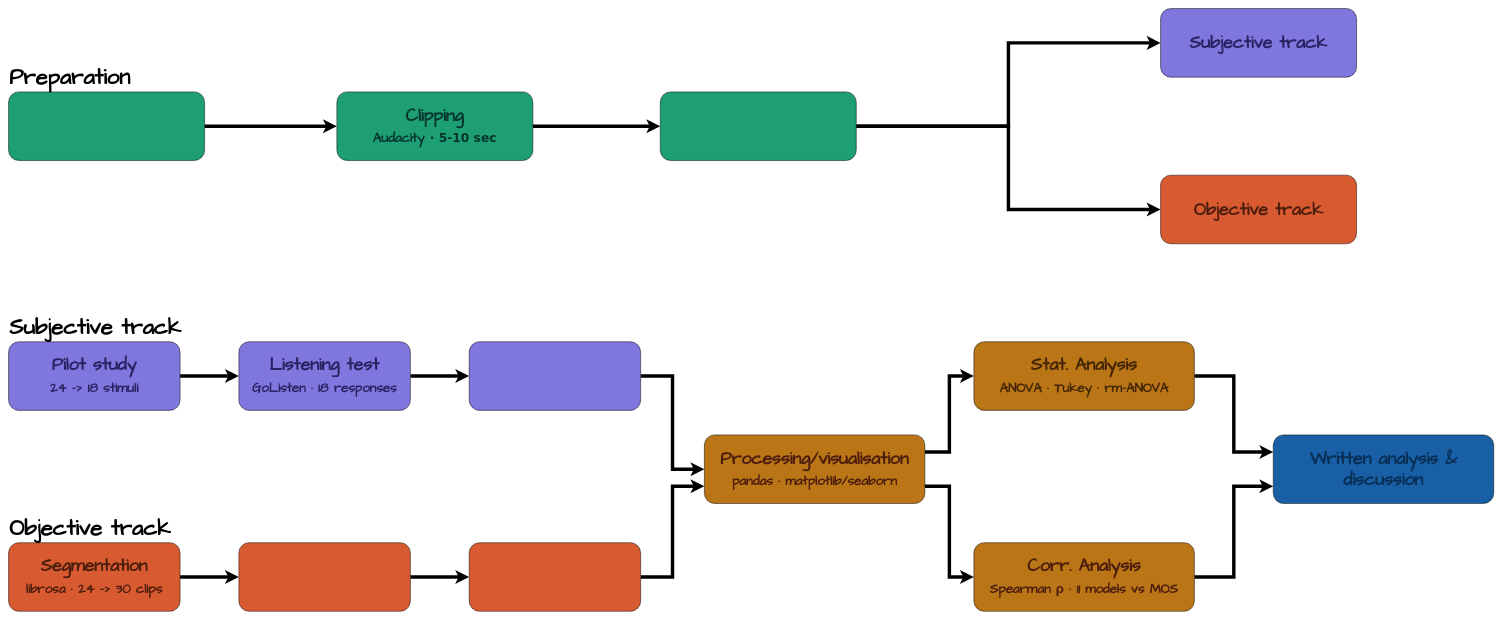
Some shapes in this 1502 by 620 pixel diagram are drawn without their labels. The shapes that lost their labels are listed below. From the top down, each one's box as (x1, y1, x2, y2) in pixels, then its label:
(8, 91, 205, 160): Recording DJI Mini 3 · WIPRO
(660, 91, 856, 160): Normalisation pyloudnorm · -24 LUFS
(469, 341, 641, 410): Subjective MOS 324 total labels
(238, 542, 410, 611): Obj. Models VERSA · SCOREQ
(469, 542, 641, 611): Aggregation 30 -> 24 outputs
